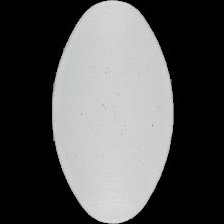54868-4170: (0, 0, 224, 224)
